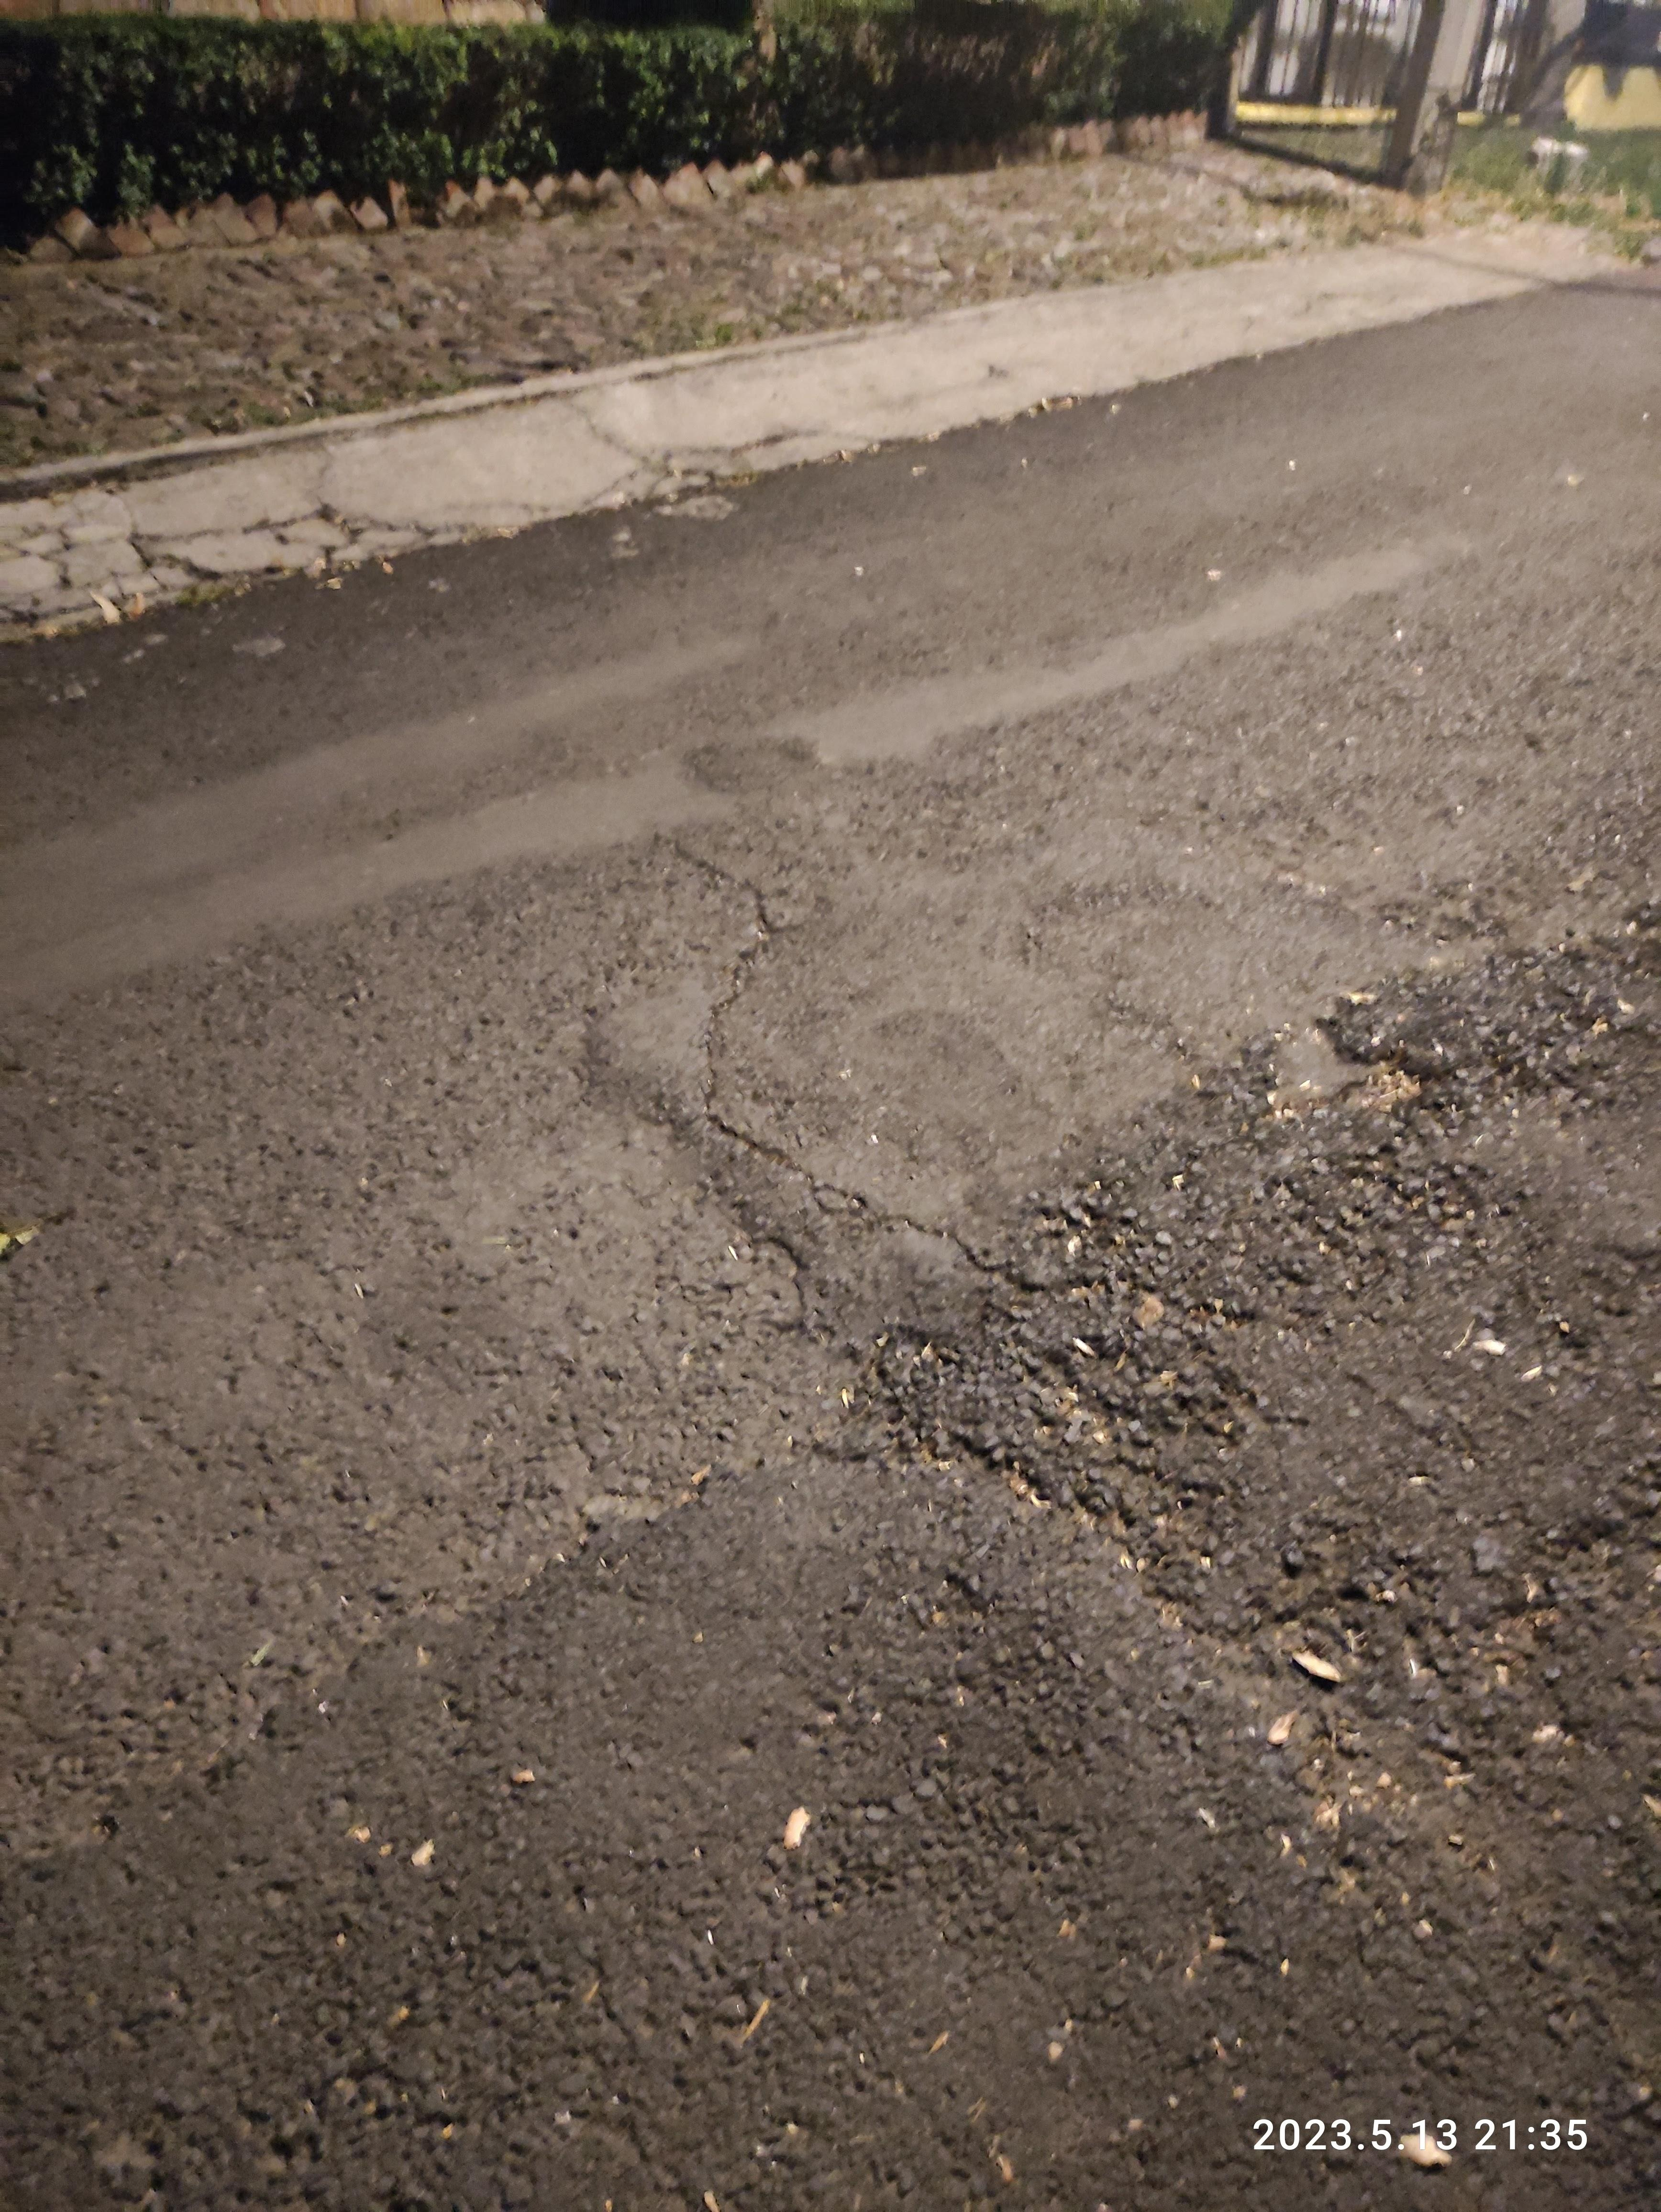alligator-crack: (866, 1027, 1471, 1591), (0, 465, 368, 663)
pothole: (634, 825, 919, 1225)
